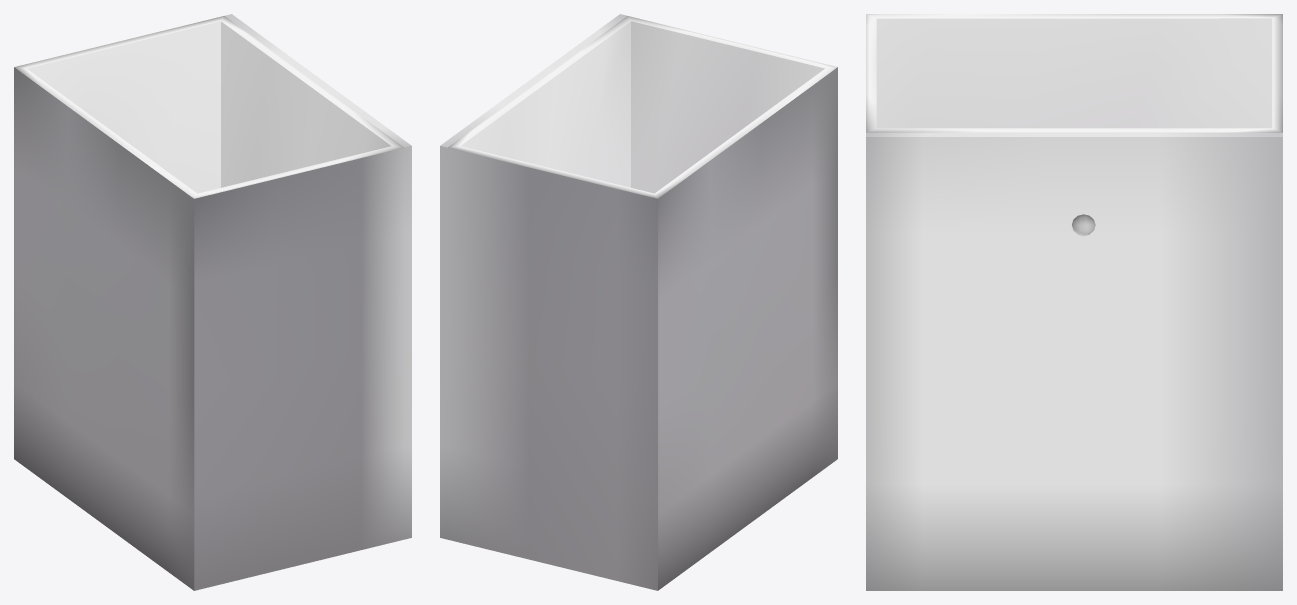
File: chestOfDrawers_DrawerBot.glb
3 renders of one model, left to right at view 1: azimuth 30°, elevation 25°; view 2: azimuth 150°, elevation 25°; view 3: azimuth 270°, elevation 25°, orthographic. The views are drawn at different scales.
Parts seen in each view (by area): view 1: RC_Furn_Dresser_Drawer5.001; view 2: RC_Furn_Dresser_Drawer5.001; view 3: RC_Furn_Dresser_Drawer5.001.
Part boxes in pixels (box(x1,y1,x2,y2)): RC_Furn_Dresser_Drawer5.001: box(14, 14, 411, 590); RC_Furn_Dresser_Drawer5.001: box(440, 14, 837, 590); RC_Furn_Dresser_Drawer5.001: box(866, 14, 1282, 590).
Bounding box in the file's own units: 0.7216 × 1.2 × 0.9953.
1 material, 1 textured.
